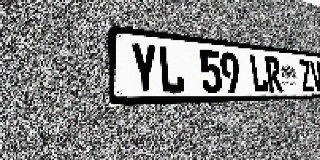5: (199, 49, 223, 93)
9: (219, 51, 242, 93)
L: (157, 45, 185, 94), (249, 54, 269, 92)
R: (264, 56, 283, 92)
V: (309, 60, 320, 92)
Y: (129, 42, 159, 94)
Z: (298, 59, 314, 92)
